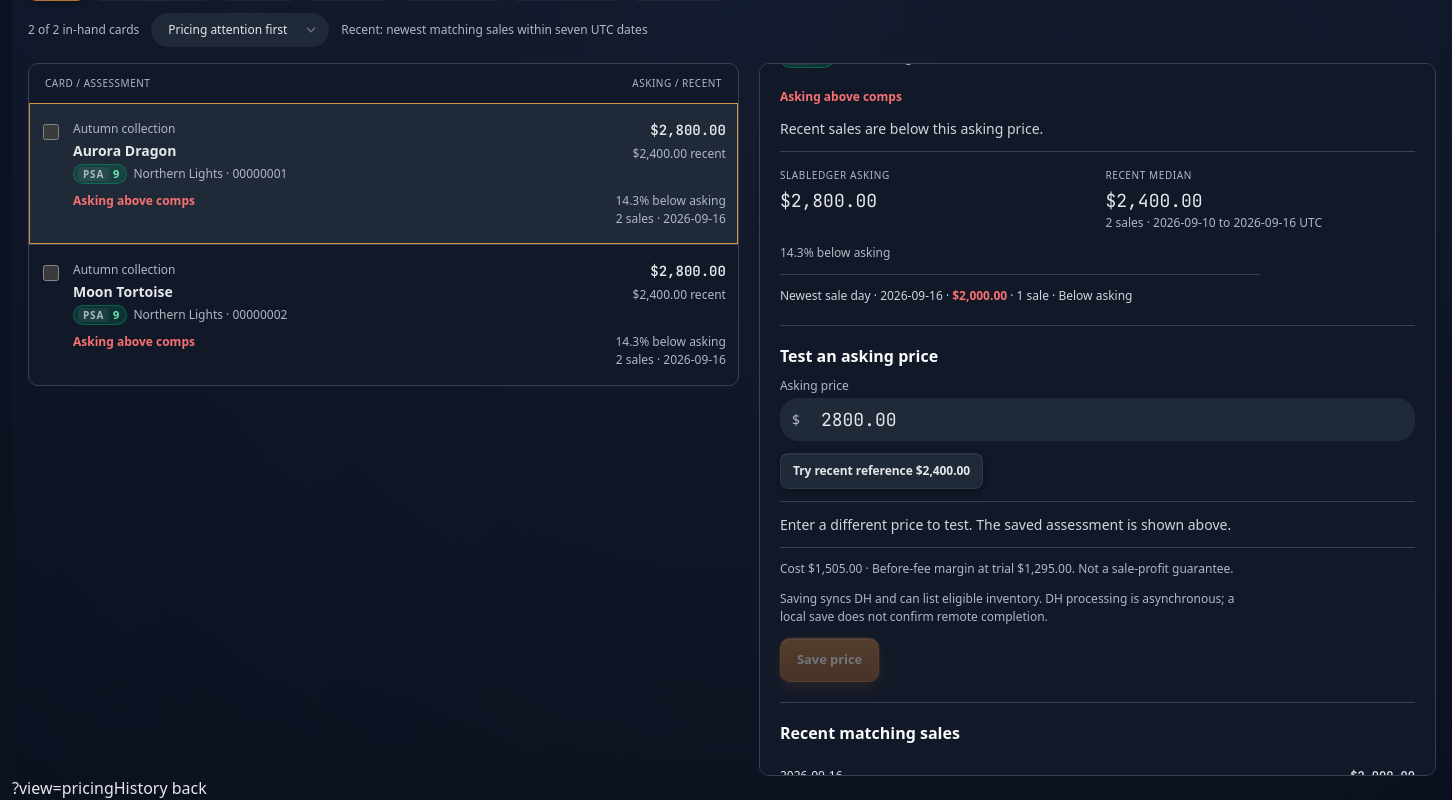
Test: invalidates the whole show cache family after the canonical reviewed-price write
The image size is (1452, 800).
(page scrolled)
Replace the text in the field labelled "Asking price" with "2400". click: (1097, 419)
box: [780,398,1415,441]
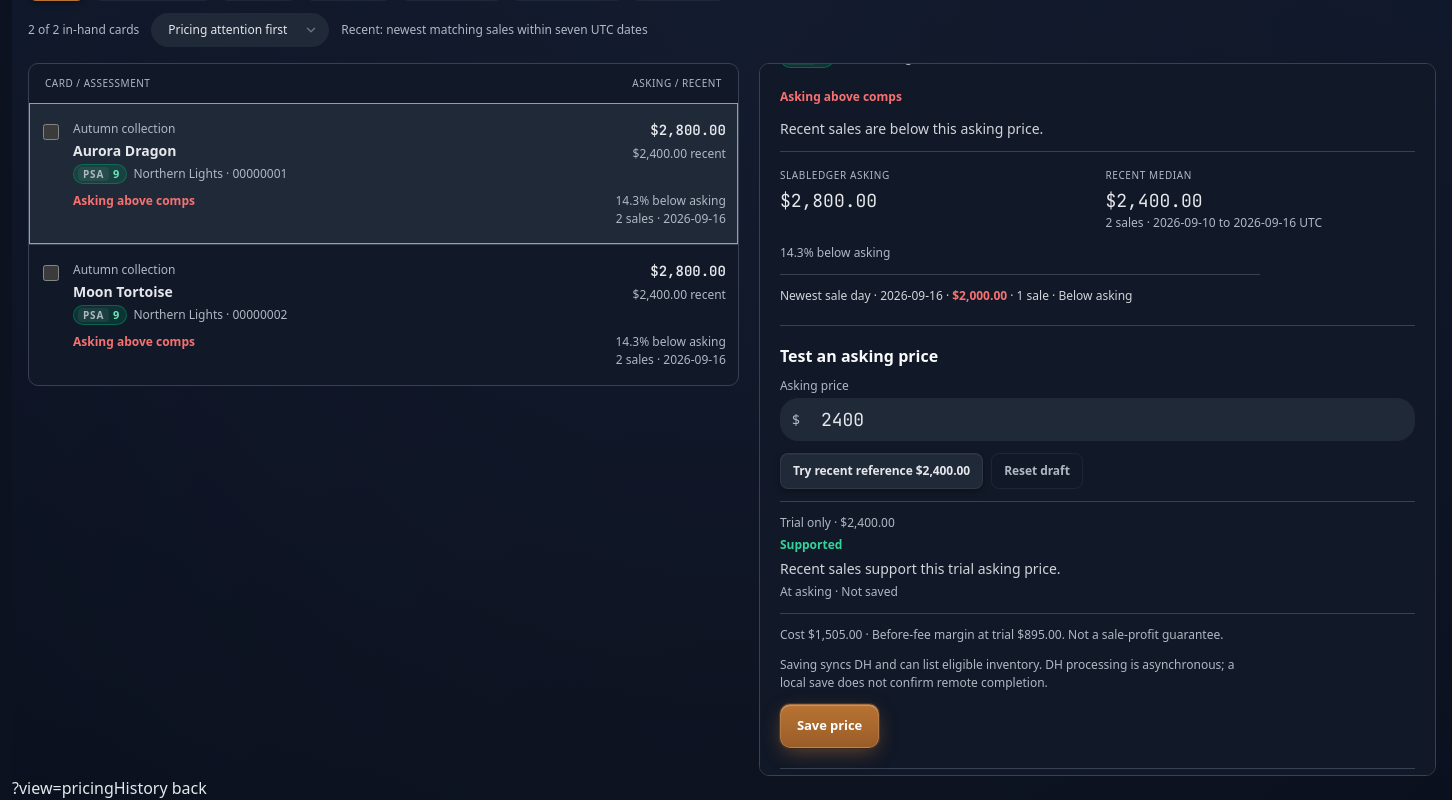
Now the text "Trial only · $2,400.00" is shown, box [780,514,895,531]
Now the button "Save price" is enabled
Click the button "Save price". click: (830, 726)
box: [780,704,879,748]
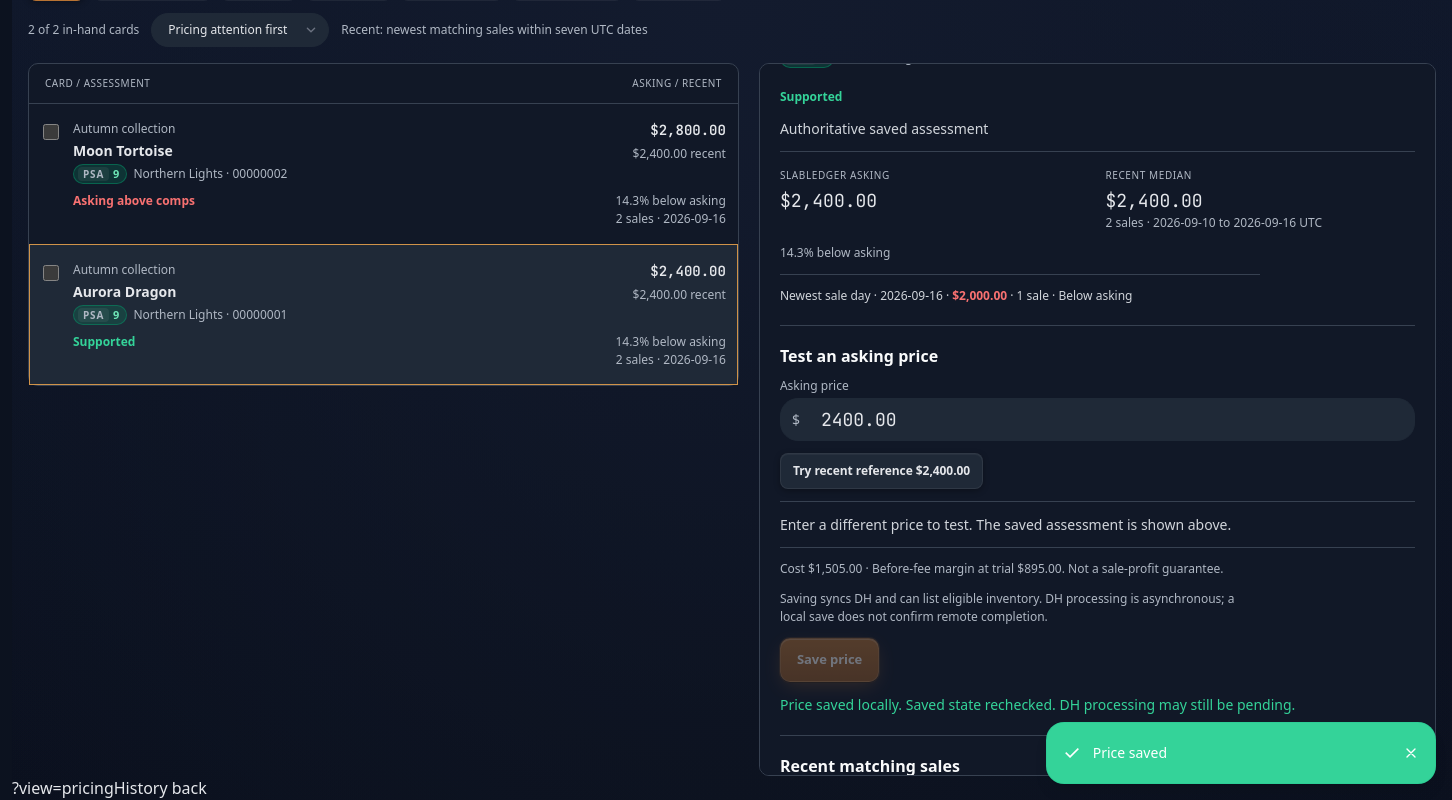
Now the text "Saved state rechecked" is shown, box [906,695,1056,714]
